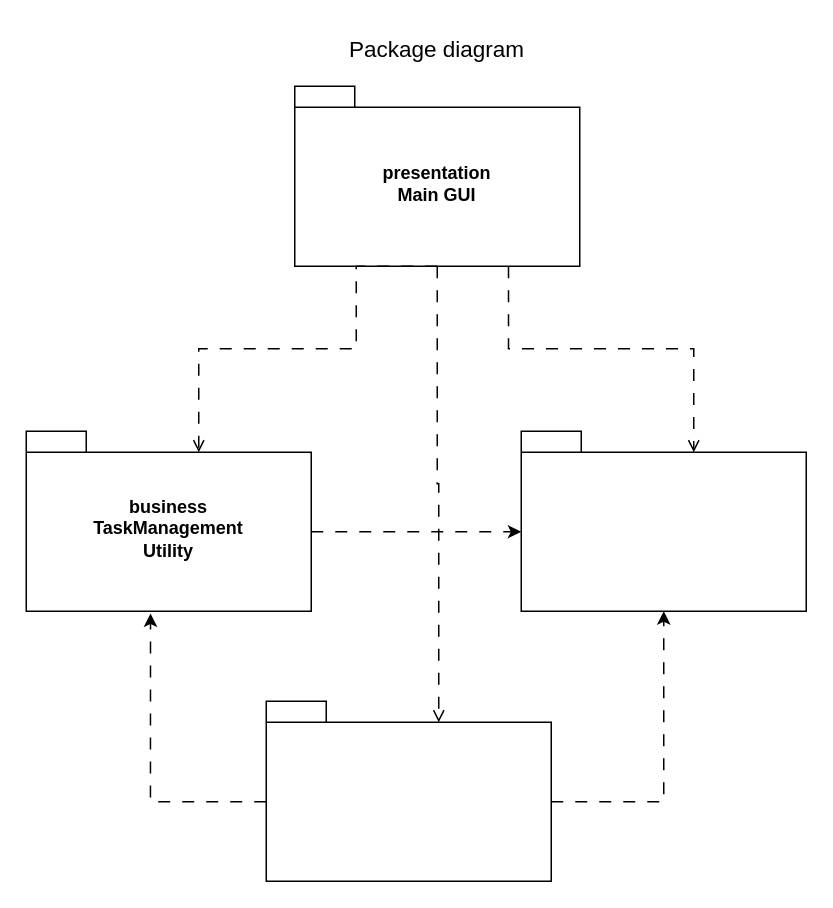
This 833x908 diagram has some shape labels left out. Each missing label, with the box of its shape:
dataAccess AppData: (265, 700, 551, 881)
model Employee Task SimpleTask ComplexTask: (520, 430, 806, 611)
